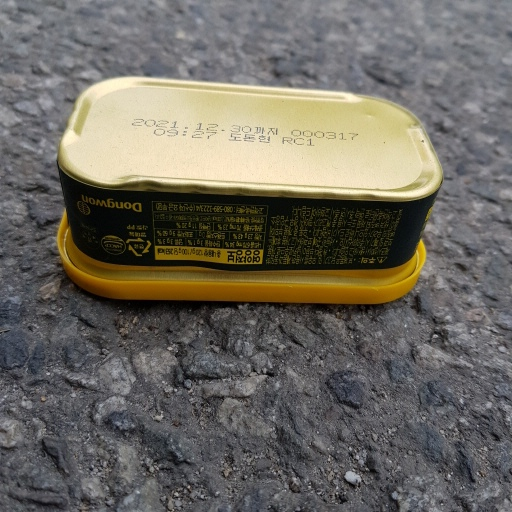Metal_2: (52, 77, 441, 308)
